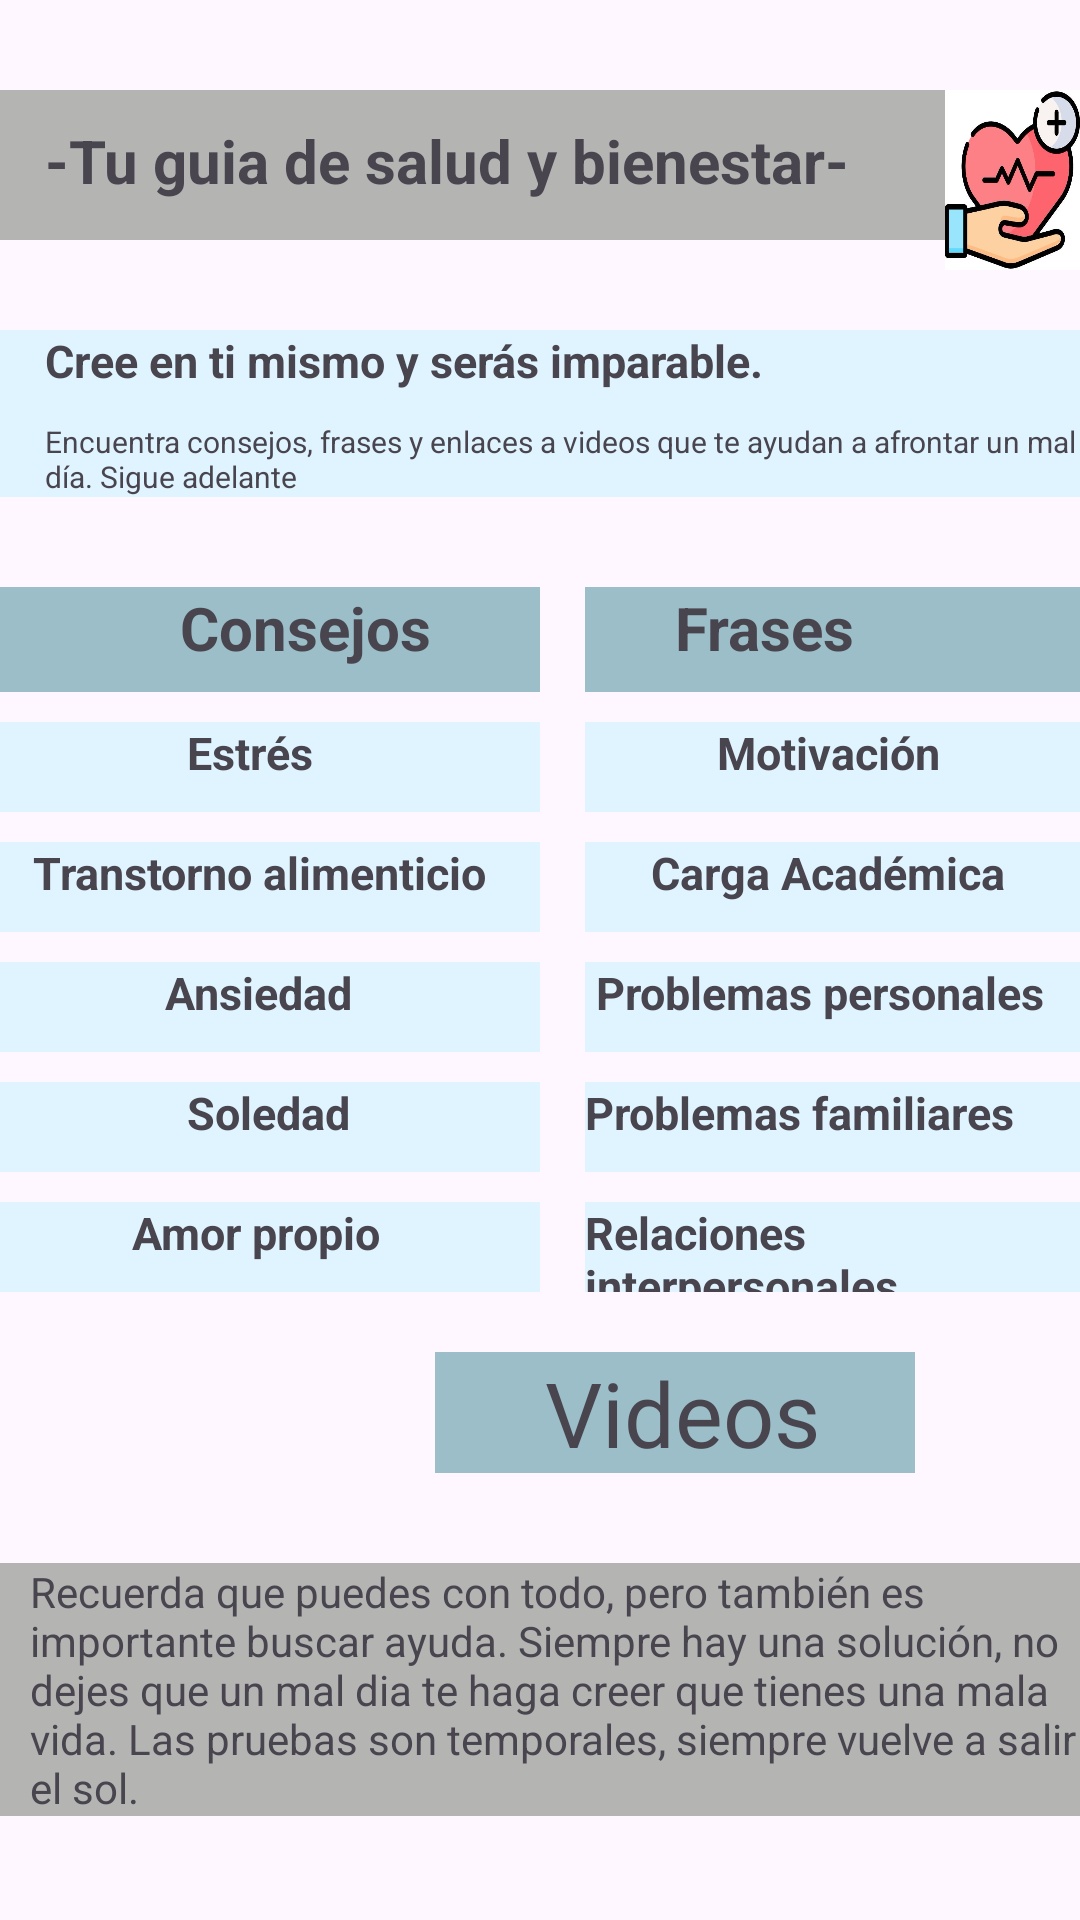

Icons on this 1080w x 1920h Android screen, each with its box as [x1=x1, y1=y1, x2=x2, y2=y2]:
corabienestar: [x1=945, y1=91, x2=1080, y2=269]
